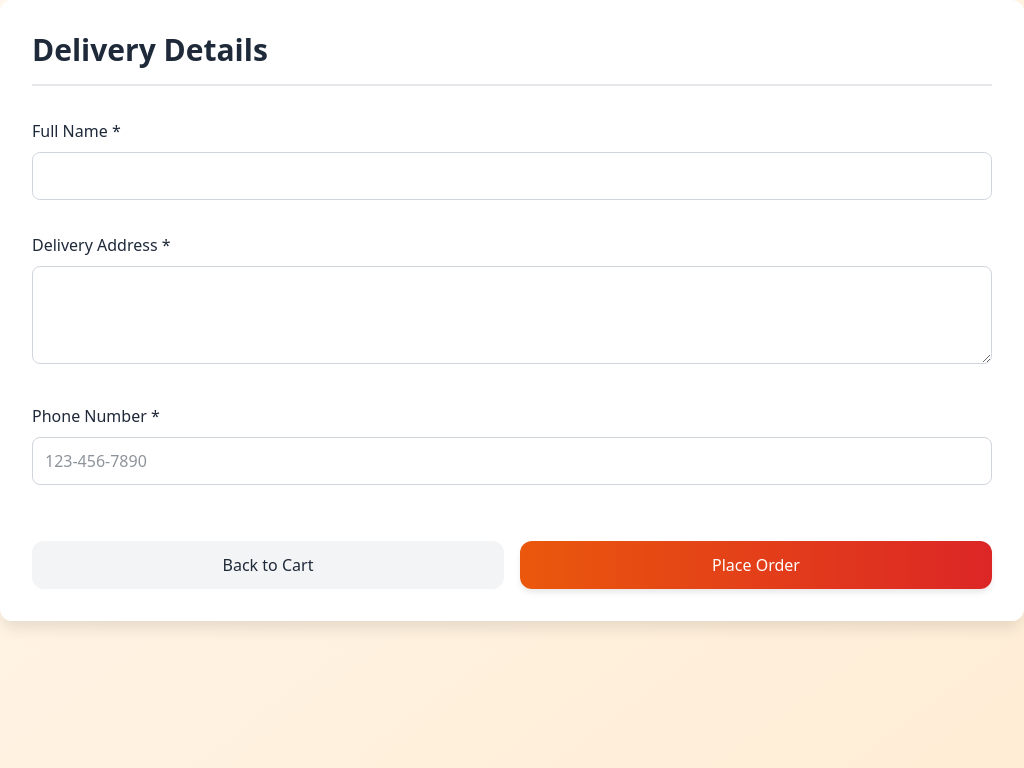
CheckoutForm Component › shows validation errors on empty submit
This screenshot has width=1024, height=768.
Click the button "Place Order". click: (756, 565)
box: [520,541,992,589]
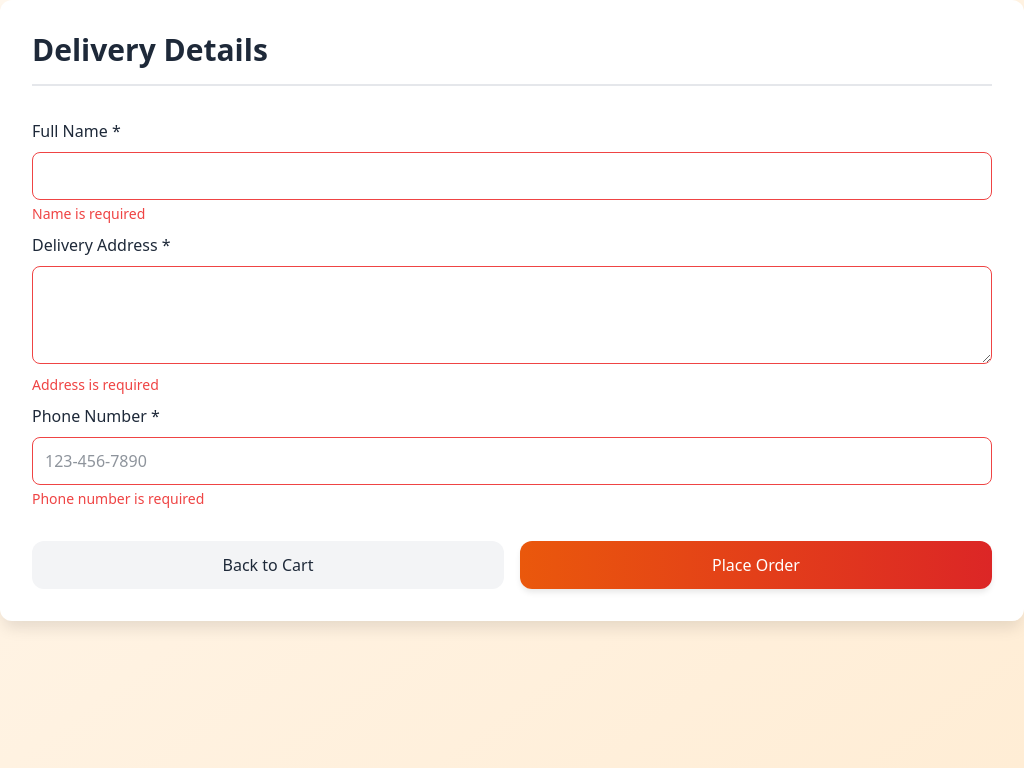
Expected: the text "Name is required" is shown, [32,204,145,223]
Expected: the text "Address is required" is shown, [32,375,159,394]
Expected: the text "Phone number is required" is shown, [32,489,204,508]
